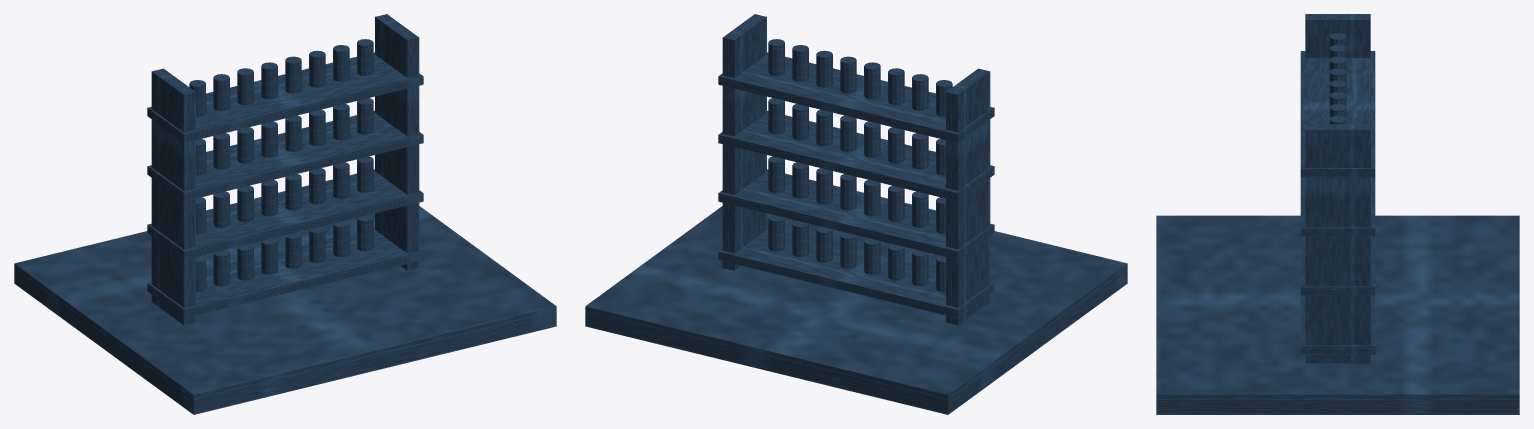
Rendered from ink_archive_02.glb.
3 renders of one model, left to right at view 1: azimuth 30°, elevation 25°; view 2: azimuth 150°, elevation 25°; view 3: azimuth 270°, elevation 25°, orthographic.
Visible parts, largest first — view 1: Foundation, ArchivePost, ArchivePost.001, Shelf.002, Shelf.003, Shelf, Shelf.001, Scroll.028, Scroll.027, Scroll.026, Scroll.030, Scroll.031 (+23 smaller); view 2: Foundation, ArchivePost, ArchivePost.001, Shelf.002, Shelf.003, Shelf, Shelf.001, Scroll.028, Scroll.027, Scroll.026, Scroll.030, Scroll.031 (+23 smaller); view 3: Foundation, ArchivePost.001, Shelf.003, ArchivePost, Shelf, Shelf.001, Shelf.002.
Part boxes in pixels (x1,y1,x2,y2): Foundation: (14, 206, 556, 414); ArchivePost: (151, 68, 195, 325); ArchivePost.001: (375, 14, 419, 270); Shelf.002: (147, 110, 423, 201); Shelf.003: (147, 52, 423, 142); Shelf: (147, 227, 423, 318); Shelf.001: (147, 169, 423, 259); Scroll.028: (285, 56, 301, 93); Scroll.027: (261, 62, 277, 99); Scroll.026: (237, 68, 253, 105); Scroll.030: (333, 45, 349, 81); Scroll.031: (357, 39, 373, 75); Foundation: (585, 206, 1127, 414); ArchivePost: (946, 68, 990, 325); ArchivePost.001: (722, 14, 766, 270); Shelf.002: (718, 110, 994, 201); Shelf.003: (718, 52, 994, 142); Shelf: (718, 227, 994, 318); Shelf.001: (718, 169, 994, 259); Scroll.028: (840, 56, 856, 93); Scroll.027: (864, 62, 880, 99); Scroll.026: (888, 68, 904, 105); Scroll.030: (792, 45, 808, 81); Scroll.031: (768, 39, 784, 75); Foundation: (1156, 215, 1519, 414); ArchivePost.001: (1305, 124, 1370, 363); Shelf.003: (1300, 51, 1375, 177); ArchivePost: (1305, 14, 1370, 57); Shelf: (1300, 295, 1375, 354); Shelf.001: (1300, 236, 1375, 295); Shelf.002: (1300, 177, 1375, 236).
Bounding box in the file's own units: 4.55 × 3 × 3.9.
1 material, 1 textured.
